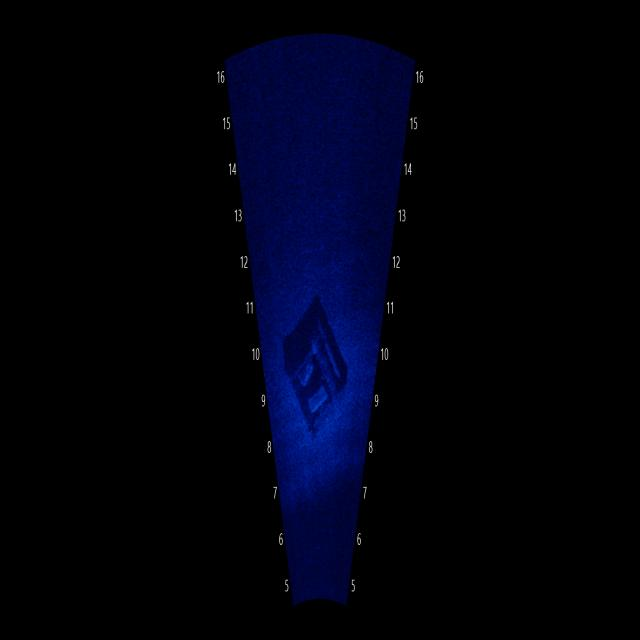square: (276, 277, 356, 443)
